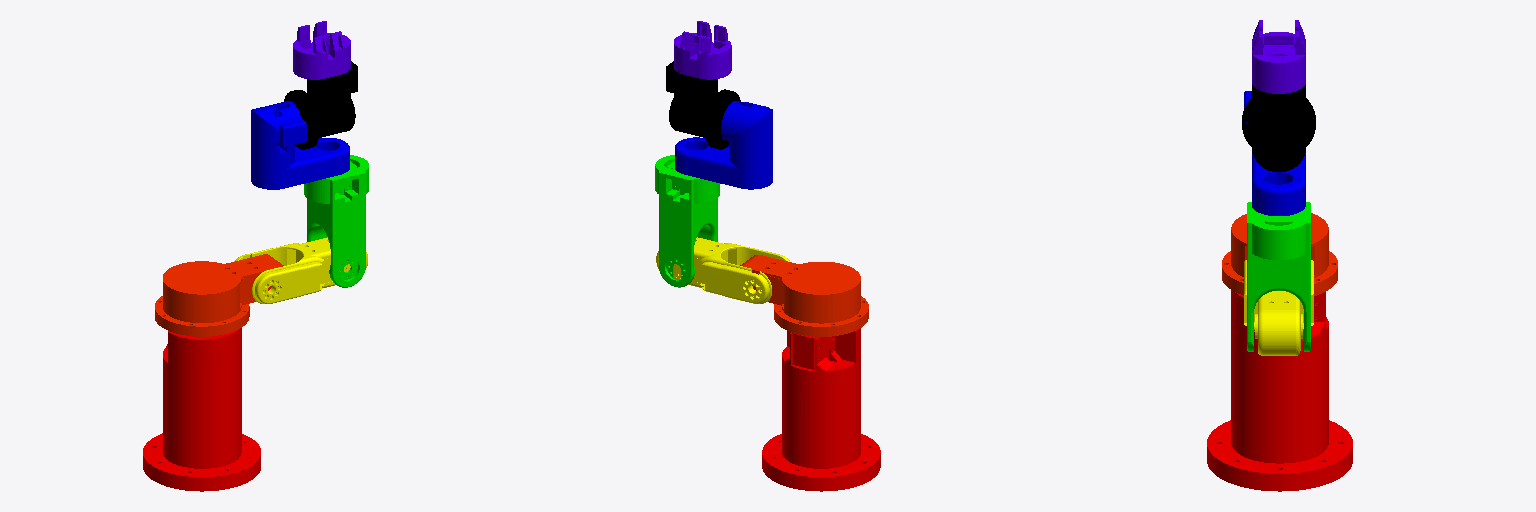
The robot description file, URDF, robot "puma560":
<?xml version='1.0' ?>

<robot name="puma560">

    <material name="red">
        <color rgba="1 0 0 1"/>
    </material>
    <material name="orange">
        <color rgba="1 0.2 0 1"/>
    </material>
    <material name="yellow">
        <color rgba="1 1 0 1"/>
    </material>
    <material name="green">
        <color rgba="0 1 0 1"/>
    </material>
    <material name="blue">
        <color rgba="0 0 1 1"/>
    </material>
    <material name="black">
        <color rgba="0 0 0 1"/>
    </material>
    <material name="purple">
        <color rgba="0.4 0 1 1"/>
    </material>
    
    <link name="world"/>

    <joint name="joint_world" type="fixed">
        <parent link="world"/>
        <child link="base"/>
        <origin rpy="0 0 0" xyz="0 0 0"/>
    </joint>

    <link name="base">
        <visual>
            <origin xyz="0 0 0" rpy="0 0 0" />
            <geometry>
		    <mesh filename="package://puma560/meshes/axis0.stl"/>
            </geometry>
            <material name="red"/>
        </visual>
    </link>

    <joint name="joint01" type="revolute">
        <origin xyz="0 0 0.239" rpy="0 0 0"/>
        <parent link="base"/>
        <child link="link1"/>
        <axis xyz='0 0 1'/>
        <calibration rising="0.0"/>
        <dynamics damping="0.0" friction="0.0"/>
        <limit effort="30" velocity="1.0" lower="-3.14" upper="3.14" />
        <safety_controller k_velocity="10" k_position="15" soft_lower_limit="-3.14" soft_upper_limit="3.14" />
    </joint>
    
    <link name="link1">
        <visual>
            <origin xyz="0 0 0" rpy="0 0 0" />
            <geometry>
		    <mesh filename="package://puma560/meshes/axis1.stl"/>
            </geometry>
            <material name="orange"/>
        </visual>
    </link>

    <joint name="joint12" type="revolute">
        <origin xyz="0.08 0 0.0033" rpy="-1.5707963268 0 0"/>
        <parent link="link1"/>
        <child link="link2"/>
        <axis xyz='0 0 1'/>
        <calibration rising="0.0"/>
        <dynamics damping="0.0" friction="0.0"/>
        <limit effort="30" velocity="1.0" lower="-2.0043950955" upper="1.5707963268" />
        <safety_controller k_velocity="10" k_position="15" soft_lower_limit="-3.14" soft_upper_limit="3.14" />
    </joint>

    <link name="link2">
        <visual>
            <origin xyz="0 0 0" rpy="0 0 0" />
            <geometry>
		    <mesh filename="package://puma560/meshes/axis2.stl"/>
            </geometry>
            <material name="yellow"/>
        </visual>
    </link>


    <joint name="joint23" type="revolute">
        <origin xyz="0.1156 0 -0.002" rpy="0 0 0"/>
        <parent link="link2"/>
        <child link="link3"/>
        <axis xyz='0 0 1'/>
        <calibration rising="0.0"/>
        <dynamics damping="0.0" friction="0.0"/>
        <limit effort="30" velocity="1.0" lower="-0.3141592653" upper="3.4557519188" />
        <safety_controller k_velocity="10" k_position="15" soft_lower_limit="-3.14" soft_upper_limit="3.14" />
    </joint>

    <link name="link3">
        <visual>
            <origin xyz="0 0 0" rpy="0 0 0" />
            <geometry>
		    <mesh filename="package://puma560/meshes/axis3.stl"/>
            </geometry>
            <material name="green"/>
        </visual>
    </link>


    <joint name="joint34" type="revolute">
        <origin xyz="-0.01234 -0.148 0.00075" rpy="0 1.5707963268 -1.5707963268"/>
        <parent link="link3"/>
        <child link="link4"/>
        <axis xyz='0 0 1'/>
        <calibration rising="0.0"/>
        <dynamics damping="0.0" friction="0.0"/>
        <limit effort="30" velocity="1.0" lower="-3.14" upper="3.14" />
        <safety_controller k_velocity="10" k_position="15" soft_lower_limit="-3.14" soft_upper_limit="3.14" />
    </joint>

    <link name="link4">
        <visual>
            <origin xyz="0 0 0" rpy="0 0 0" />
            <geometry>
		    <mesh filename="package://puma560/meshes/axis4.stl"/>
            </geometry>
            <material name="blue"/>
        </visual>
    </link>


    <joint name="joint45" type="revolute">
        <origin xyz="-0.0002 -0.0488 0.0602" rpy="-1.5707963268 0 0"/>
        <parent link="link4"/>
        <child link="link5"/>
        <axis xyz='0 0 1'/>
        <calibration rising="0.0"/>
        <dynamics damping="0.0" friction="0.0"/>
        <limit effort="30" velocity="1.0" lower="-2.0561944901" upper="2.0561944901" />
        <safety_controller k_velocity="10" k_position="15" soft_lower_limit="-3.14" soft_upper_limit="3.14" />
    </joint>

    <link name="link5">
        <visual>
            <origin xyz="0 0 0" rpy="0 0 0" />
            <geometry>
		    <mesh filename="package://puma560/meshes/axis5.stl"/>
            </geometry>
            <material name="black"/>
        </visual>
    </link>

    <joint name="joint56" type="revolute">
        <origin xyz="0 -0.06422 0.04994" rpy="1.5707963268 -1.5707963268 0"/>
        <parent link="link5"/>
        <child link="link6"/>
        <axis xyz='0 0 1'/>
        <calibration rising="0.0"/>
        <dynamics damping="0.0" friction="0.0"/>
        <limit effort="30" velocity="1.0" lower="-3.14" upper="3.14" />
        <safety_controller k_velocity="10" k_position="15" soft_lower_limit="-3.14" soft_upper_limit="3.14" />
    </joint>

    <link name="link6">
        <visual>
            <origin xyz="0 0 0" rpy="0 0 0" />
            <geometry>
		    <mesh filename="package://puma560/meshes/axis6.stl"/>
            </geometry>
            <material name="purple"/>
        </visual>
    </link>

</robot>

--- What the picture shows (computed from the rendered views, not written in the file) ---
The picture shows the robot from 3 angles, left to right: view 1: azimuth 30°, elevation 25°; view 2: azimuth 150°, elevation 25°; view 3: azimuth 270°, elevation 25°; orthographic projection.
Model puma560 with 8 links and 7 joints (6 revolute, 1 fixed), rooted at world, posed all joints at 0.
Links seen in each view (by area): view 1: base, link1, link4, link3, link2, link5, link6; view 2: base, link1, link4, link3, link2, link5, link6; view 3: base, link3, link5, link6, link2, link1, link4.
Boxes of the visible links, <box> form: base: <box>143,328,260,491</box>; link1: <box>155,254,283,336</box>; link4: <box>251,101,349,189</box>; link3: <box>304,155,368,287</box>; link2: <box>234,237,367,303</box>; link5: <box>284,61,357,149</box>; link6: <box>293,21,350,79</box>; base: <box>762,328,880,491</box>; link1: <box>740,255,868,336</box>; link4: <box>675,101,772,189</box>; link3: <box>655,155,719,287</box>; link2: <box>656,237,789,303</box>; link5: <box>666,61,740,149</box>; link6: <box>674,21,731,79</box>; base: <box>1207,290,1352,491</box>; link3: <box>1247,202,1310,351</box>; link5: <box>1242,85,1315,171</box>; link6: <box>1252,20,1305,93</box>; link2: <box>1244,260,1313,355</box>; link1: <box>1222,213,1337,295</box>; link4: <box>1244,91,1305,215</box>.
Bounding box of the posed robot: 0.3137 × 0.15 × 0.5697 m (x, y, z).
Meshes: 7 distinct files referenced, 7 mesh visuals loaded (7 binary STL).